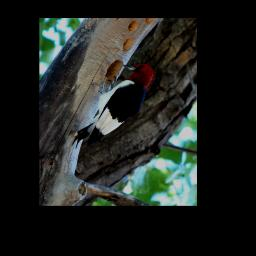Woodpecker: (69, 62, 152, 149)
